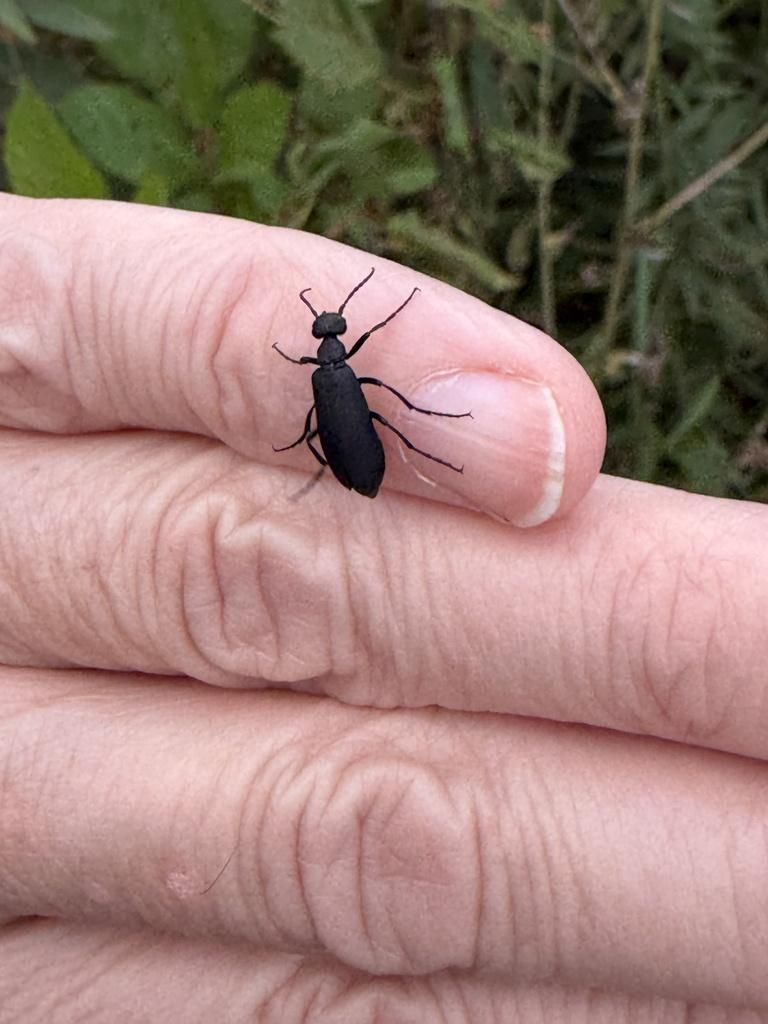blister_beetle: (226, 241, 491, 538)
